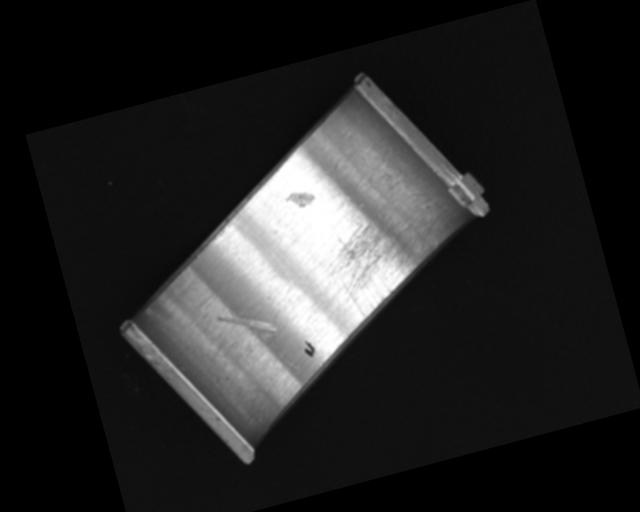blot: (301, 338, 317, 359)
bruise: (283, 187, 318, 212)
nick: (268, 302, 314, 386), (217, 302, 279, 347)
scratch: (316, 201, 447, 326)
